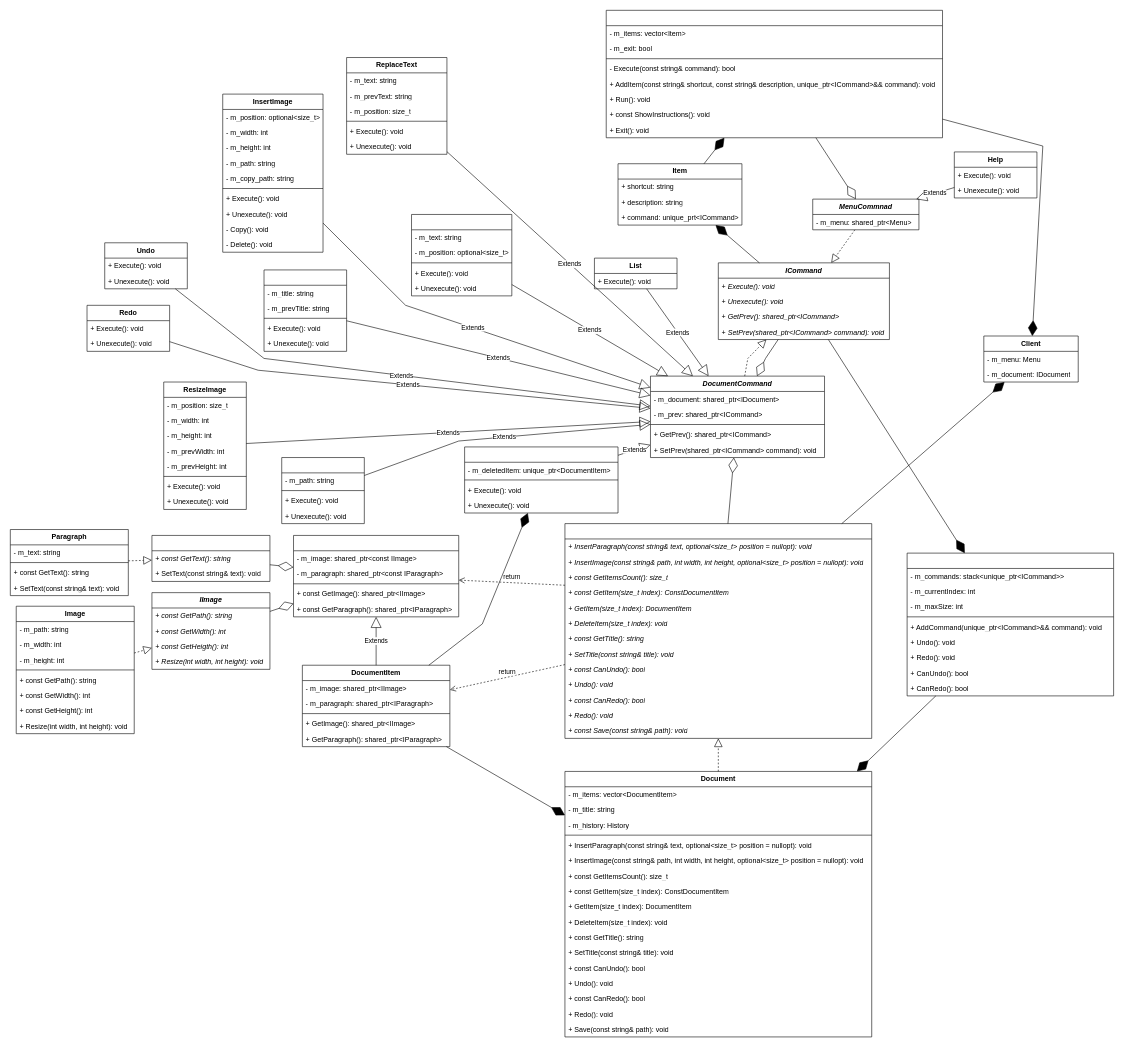
Some shapes in this 1124 by 1049 pixel diagram are drawn without their labels. Each missing label, with the box of its shape:
ConstDocumentItem: (293, 535, 459, 617)
DeleteItem: (464, 446, 618, 513)
History: (907, 553, 1114, 696)
IDocument: (564, 523, 872, 738)
InsertParagraph: (411, 214, 512, 296)
IParagraph: (151, 535, 270, 581)
Menu: (606, 10, 943, 138)
Save: (281, 457, 364, 524)
SetTitle: (263, 269, 347, 351)
